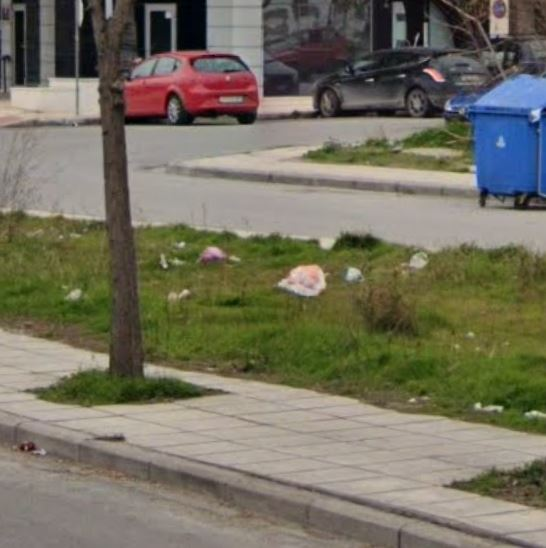trash: (264, 262, 331, 297), (191, 237, 242, 267), (410, 247, 440, 276)
